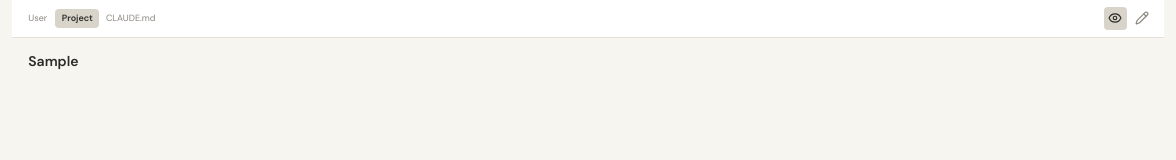
Test case: MemoryEditor › shows save button in edit mode, disabled when not dirty
Check: the heading "Sample" is shown, box [28,52,79,70]
Click the button named "Edit mode" at (1142, 18), box [1130,6,1154,30]
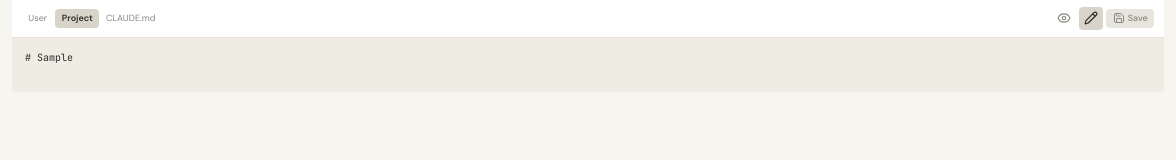
Check: the button with aria-label "Save changes" is disabled, box [1106,9,1154,28]
